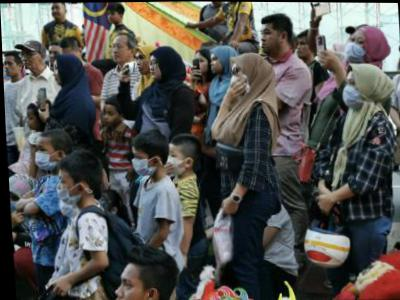NONE: (109, 275, 144, 300), (260, 28, 277, 54), (112, 42, 127, 64), (21, 51, 36, 71), (147, 57, 160, 79), (295, 39, 310, 58), (134, 54, 147, 75), (192, 57, 206, 76), (101, 109, 115, 127), (48, 50, 61, 68), (5, 60, 17, 79), (209, 56, 221, 74), (53, 65, 63, 86), (25, 113, 36, 131), (52, 5, 63, 20), (107, 10, 117, 24)
OK: (340, 77, 361, 109), (344, 35, 366, 63), (130, 150, 150, 177), (34, 143, 52, 171), (161, 150, 179, 177), (229, 66, 243, 95)
WRONG: (55, 175, 76, 204)
